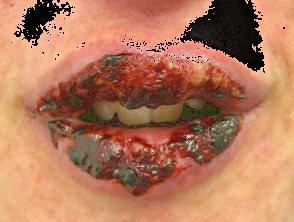SJS-TEN: (19, 33, 253, 130), (44, 109, 260, 203)
